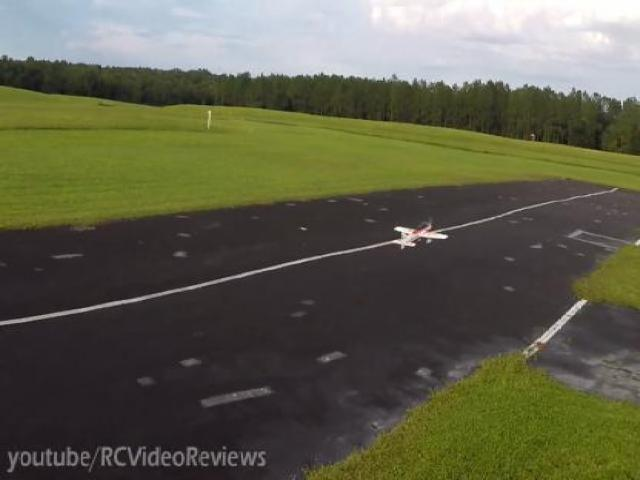uav: (388, 211, 452, 259)
